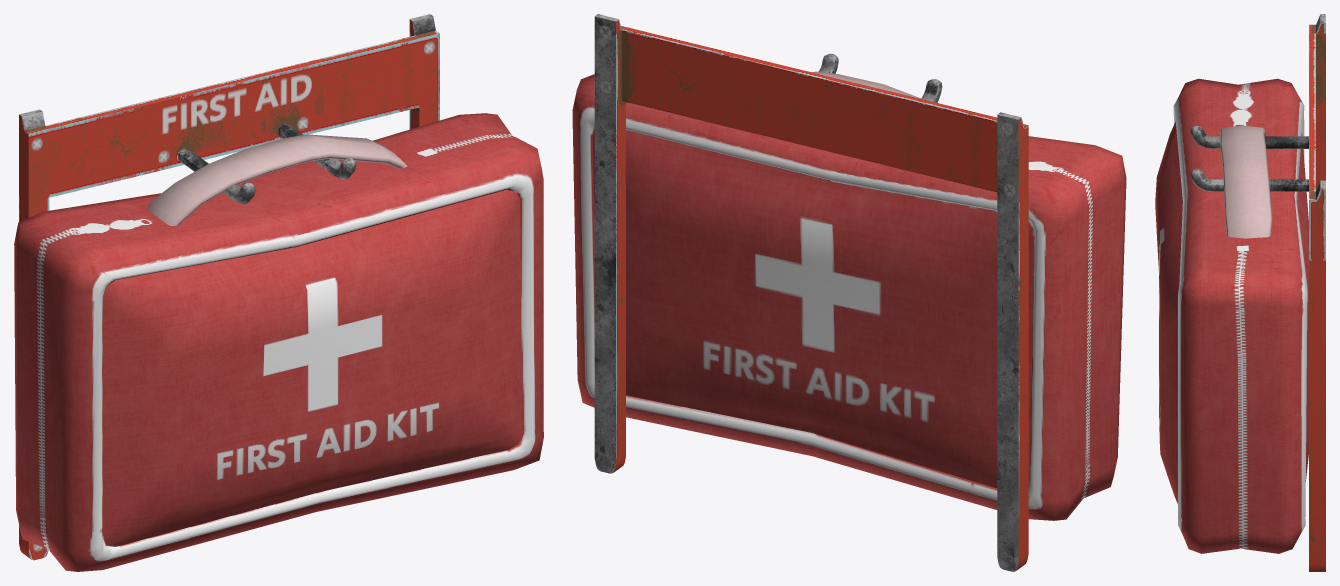
Rendered from First Aid.fbx.
3 renders of one model, left to right at view 1: azimuth 30°, elevation 25°; view 2: azimuth 150°, elevation 25°; view 3: azimuth 270°, elevation 25°, orthographic. The views are drawn at different scales.
Visible parts, largest first — view 1: Cube, Plane; view 2: Cube, Plane; view 3: Cube, Plane.
Boxes of the visible parts, x1=… form: Cube: x1=14, y1=113, x2=543, y2=571; Plane: x1=19, y1=14, x2=439, y2=560; Cube: x1=572, y1=71, x2=1126, y2=520; Plane: x1=594, y1=14, x2=1028, y2=571; Cube: x1=1155, y1=78, x2=1308, y2=553; Plane: x1=1190, y1=14, x2=1325, y2=571.
Size of the model in its own units: 354 by 307 by 123.
